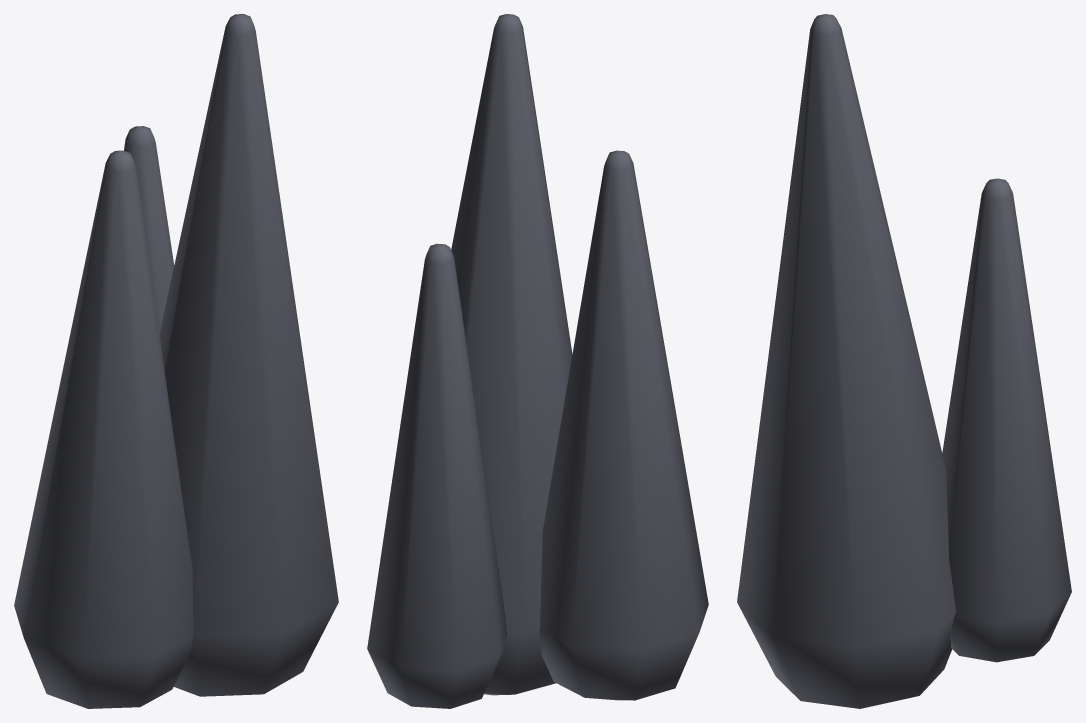
The model's file is prop_stalag1_4f92.glb.
3 renders of one model, left to right at view 1: azimuth 30°, elevation 25°; view 2: azimuth 150°, elevation 25°; view 3: azimuth 270°, elevation 25°, orthographic. The views are drawn at different scales.
Visible parts, largest first — view 1: prop_stalag1_4f92; view 2: prop_stalag1_4f92; view 3: prop_stalag1_4f92.
Part boxes in pixels (x1,y1,x2,y2): prop_stalag1_4f92: (14, 14, 338, 708); prop_stalag1_4f92: (367, 14, 708, 708); prop_stalag1_4f92: (737, 14, 1071, 708).
Size of the model in its own units: 0.5032 by 1.07 by 0.4719.
Materials: 1 (1 with a texture image).
